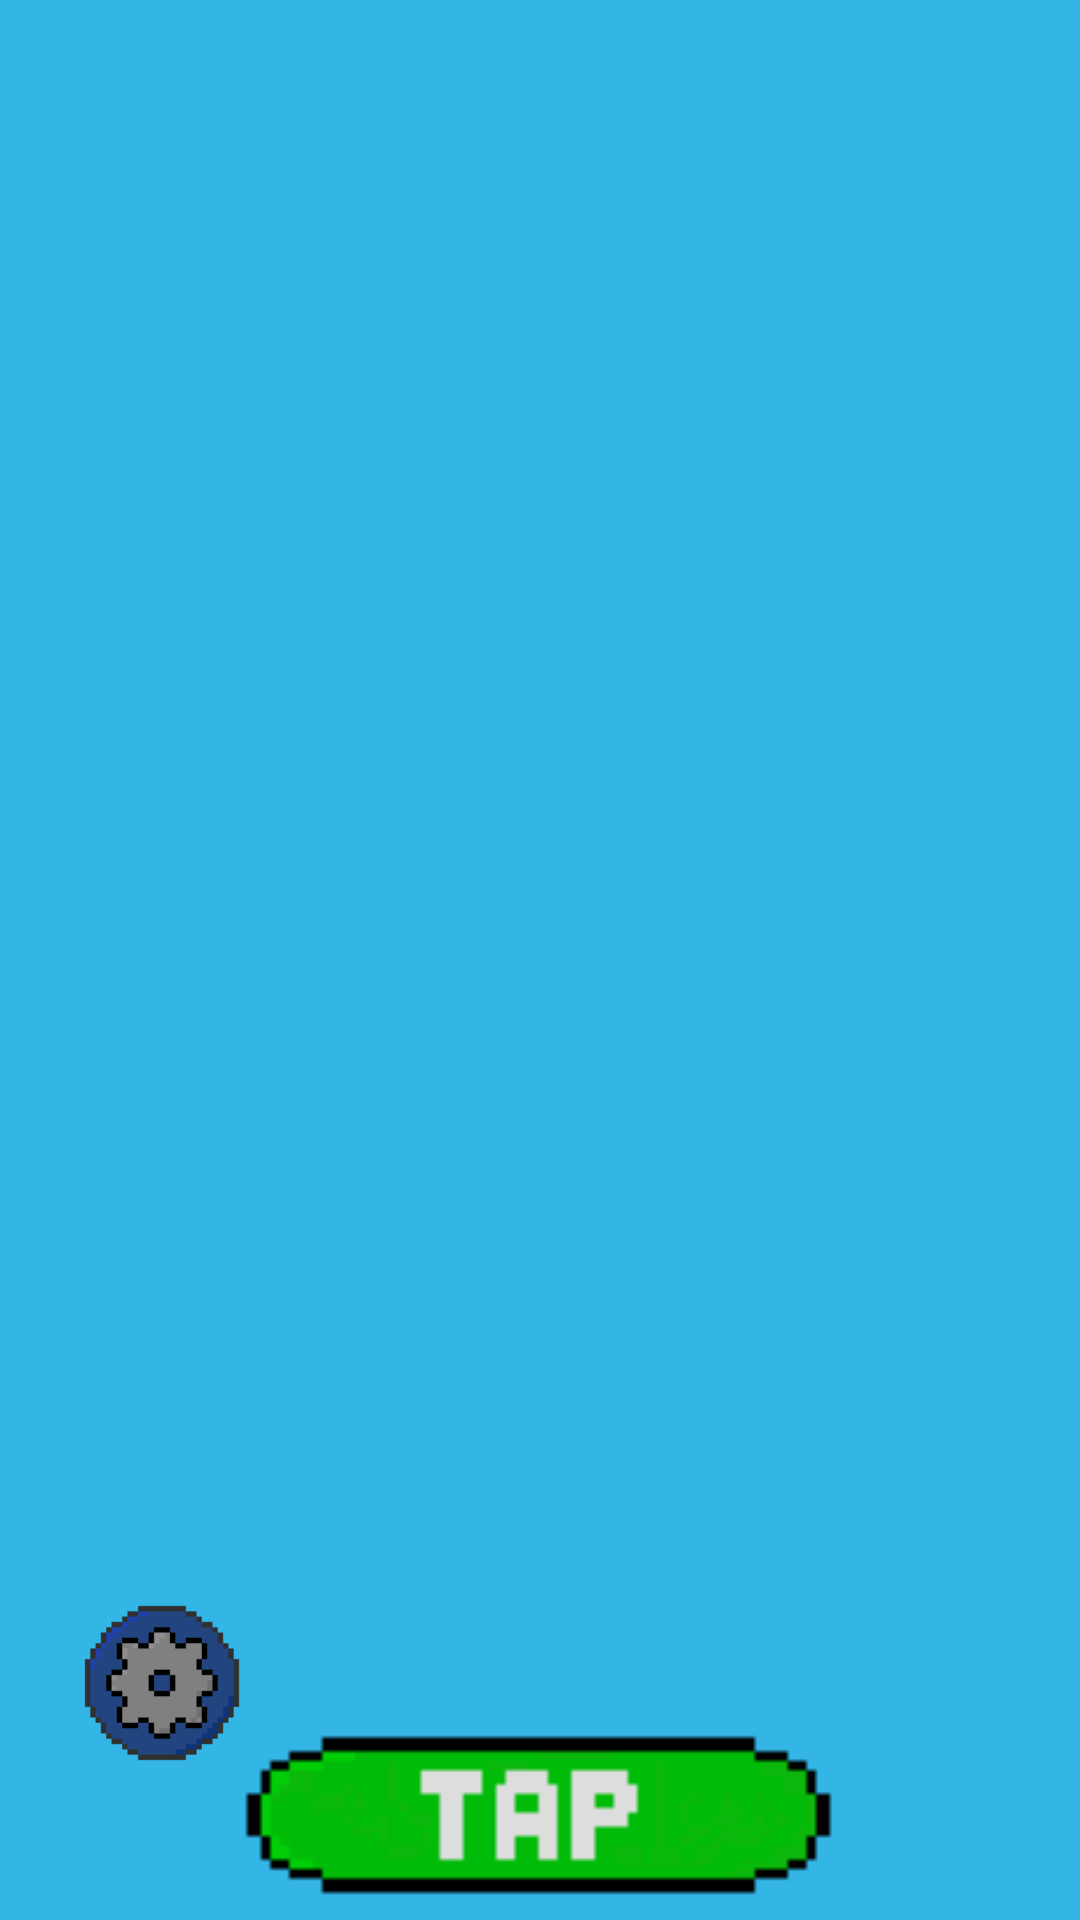

Screen size 1080px×1920px. Icon name, then its center in pixels as [x,y]:
nastaveni: [162,1683]
